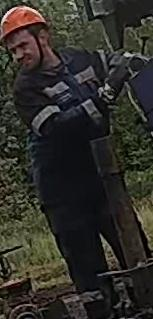gloves: (92, 48, 139, 109)
helmet: (0, 5, 47, 46)
vest: (14, 50, 109, 211)
